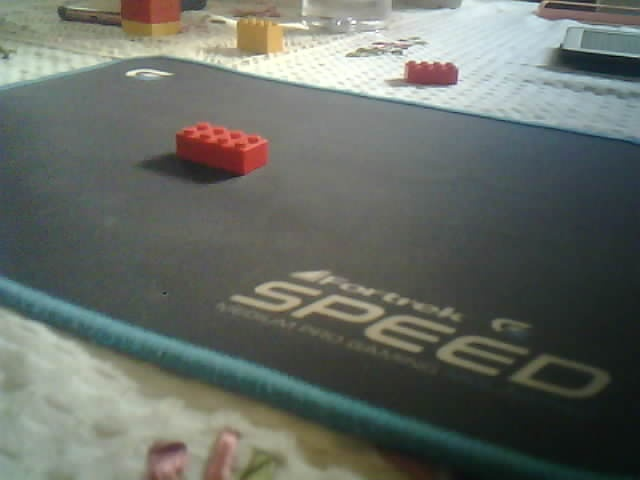lego: (175, 121, 268, 176), (119, 1, 181, 39), (234, 17, 285, 56), (402, 59, 460, 89)
